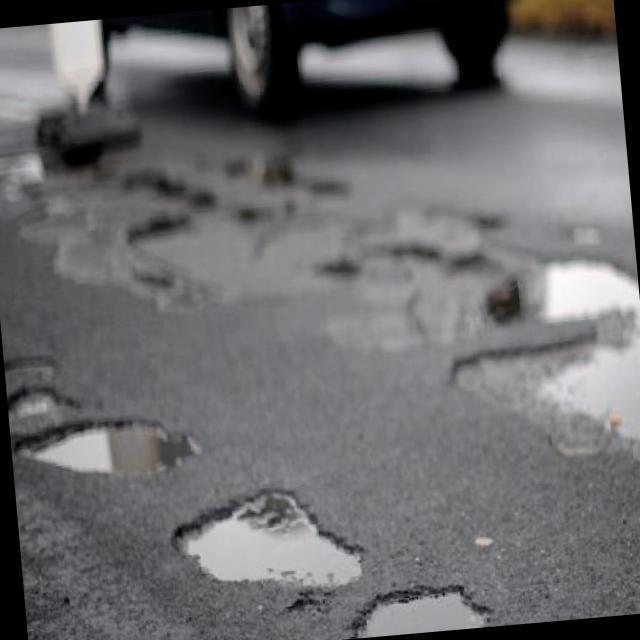pothole: (433, 224, 640, 446), (157, 474, 370, 604), (6, 385, 213, 492), (324, 566, 515, 640), (1, 369, 63, 429)
